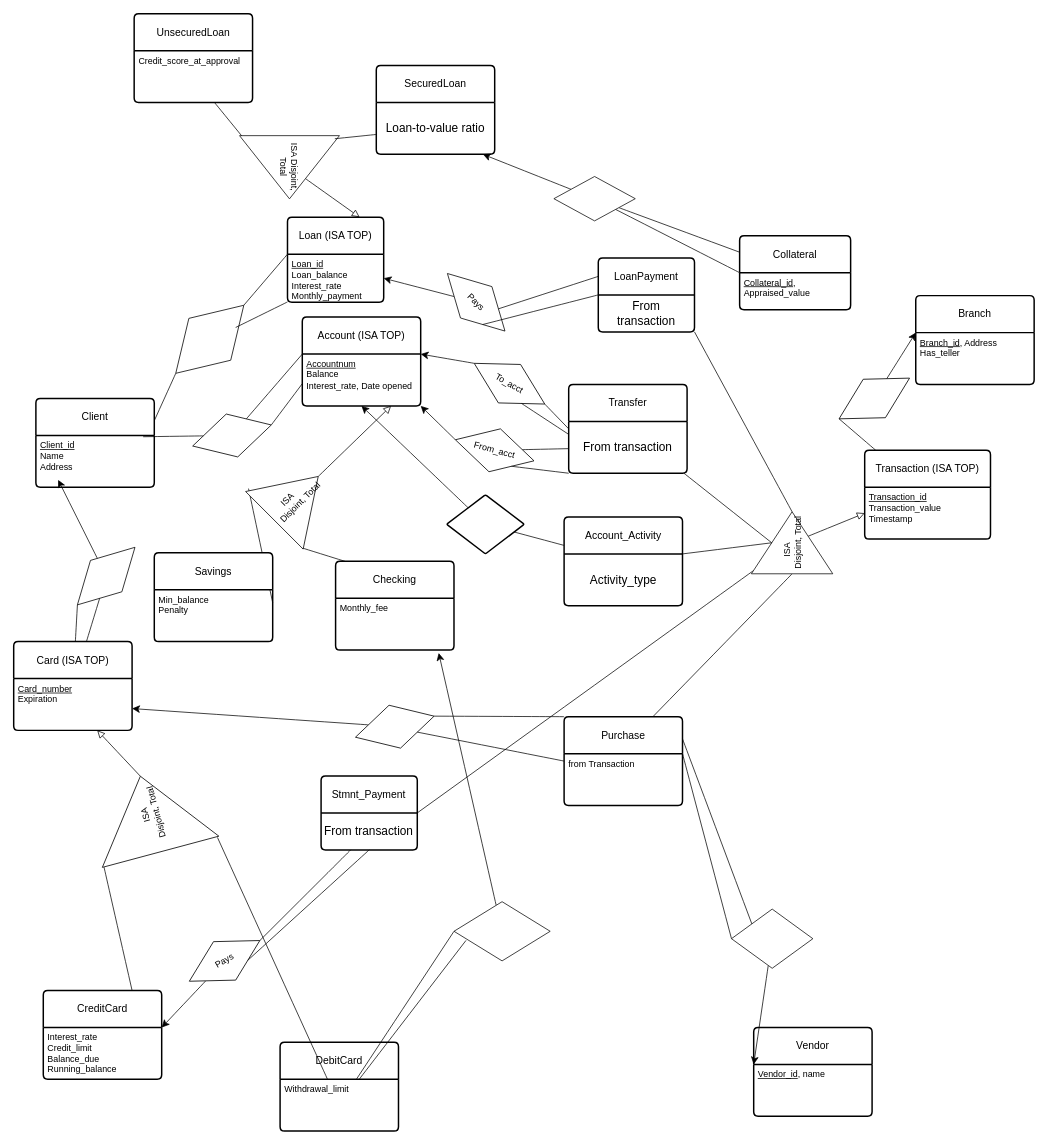
The diagram is 1047 pixels wide and 1144 high, and some of its shapes have lost their labels. Here are the shapes that lost their labels. From the top down, the centre of each, then its label:
At pixel 594 198: "Secures".
At pixel 209 338: "Borrows".
At pixel 874 398: "Occurs at".
At pixel 231 435: "Owns".
At pixel 485 524: "Involves".
At pixel 106 576: "Belongs To".
At pixel 394 726: "Made With".
At pixel 501 931: "Accesses".
At pixel 772 938: "At".
